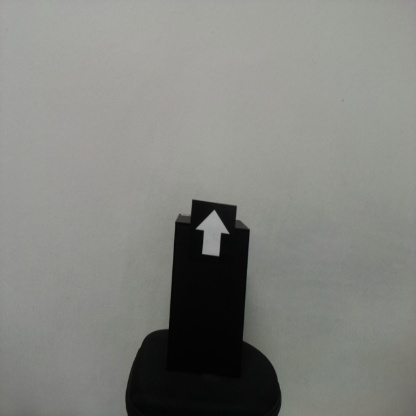id_1: (192, 204, 236, 269)
